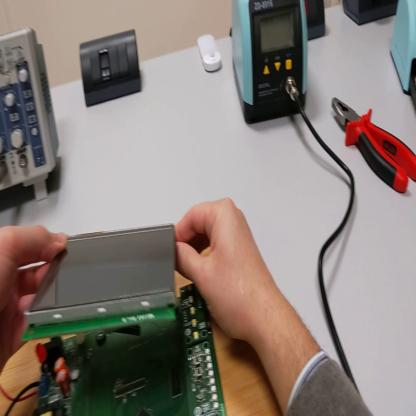hand: (173, 198, 269, 344), (2, 223, 68, 363)
low voltage board: (5, 288, 233, 416)
oscilloscope: (2, 32, 61, 203)
pliers: (332, 97, 416, 197)
socket: (344, 1, 400, 25), (310, 2, 325, 40)
welder base: (392, 3, 415, 112)
welder station: (233, 1, 309, 125)
working area: (2, 249, 282, 412)
